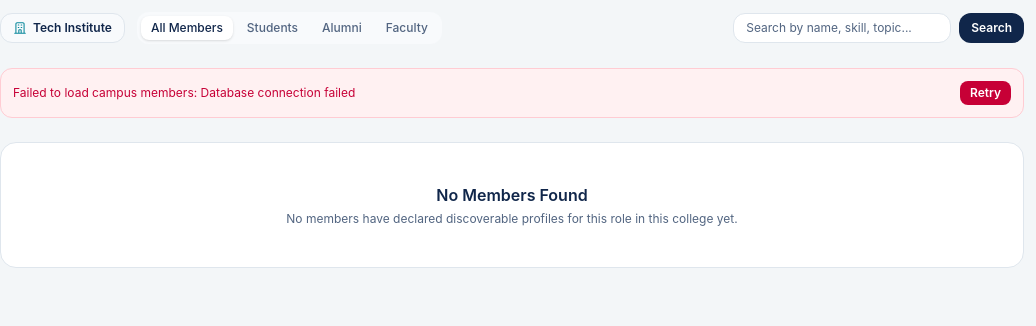
MemberDiscoveryPanel › displays helpful error alert with retry button when API request fails
The width and height of the screenshot is (1036, 326).
Check: the text "Failed to load campus members: Database connection failed" is shown, box [13,85,355,101]
Click the button "Retry": (986, 93) [960,81,1011,105]
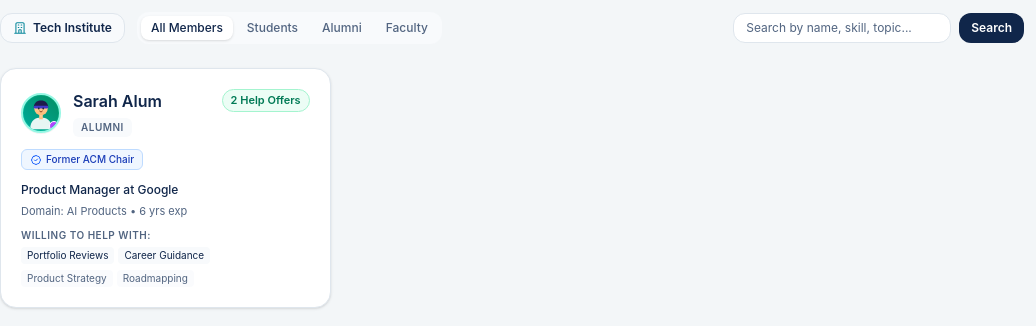
Check: the heading "Sarah Alum" is shown, box [73,89,162,113]
